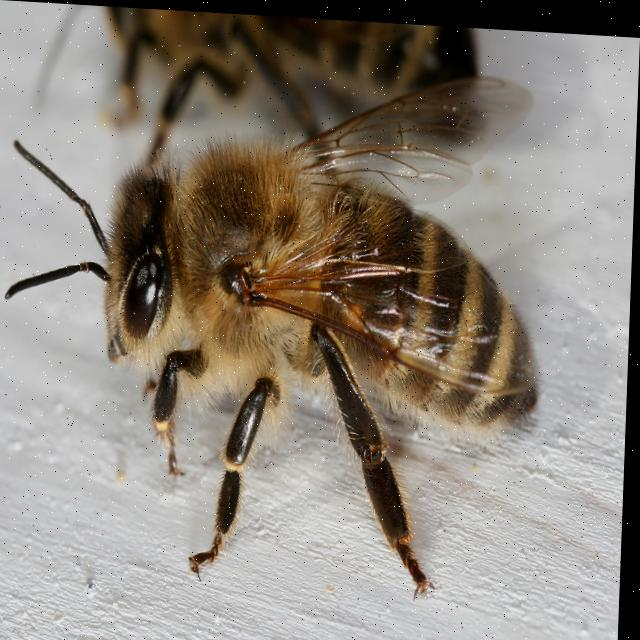Apis-mellifera-scutellata: (0, 90, 610, 640)
